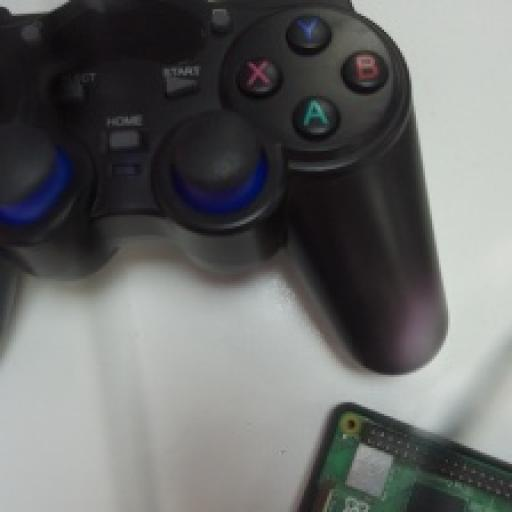game pad: (0, 0, 446, 373)
